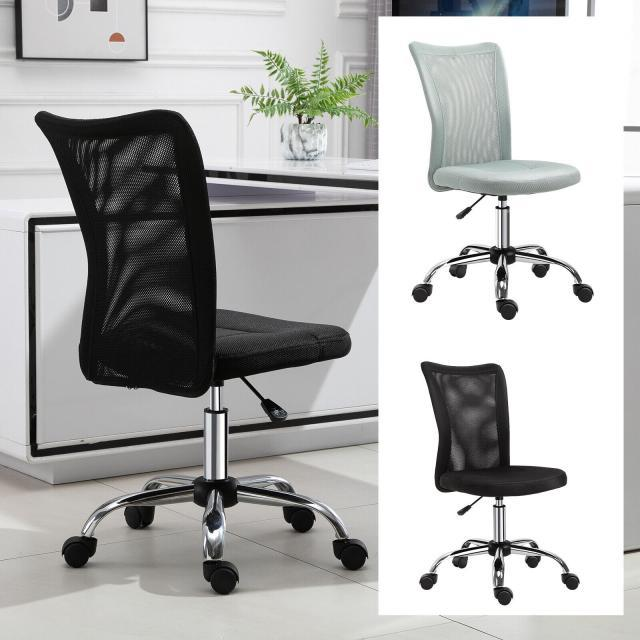chair: (14, 77, 372, 624), (398, 324, 608, 607)
